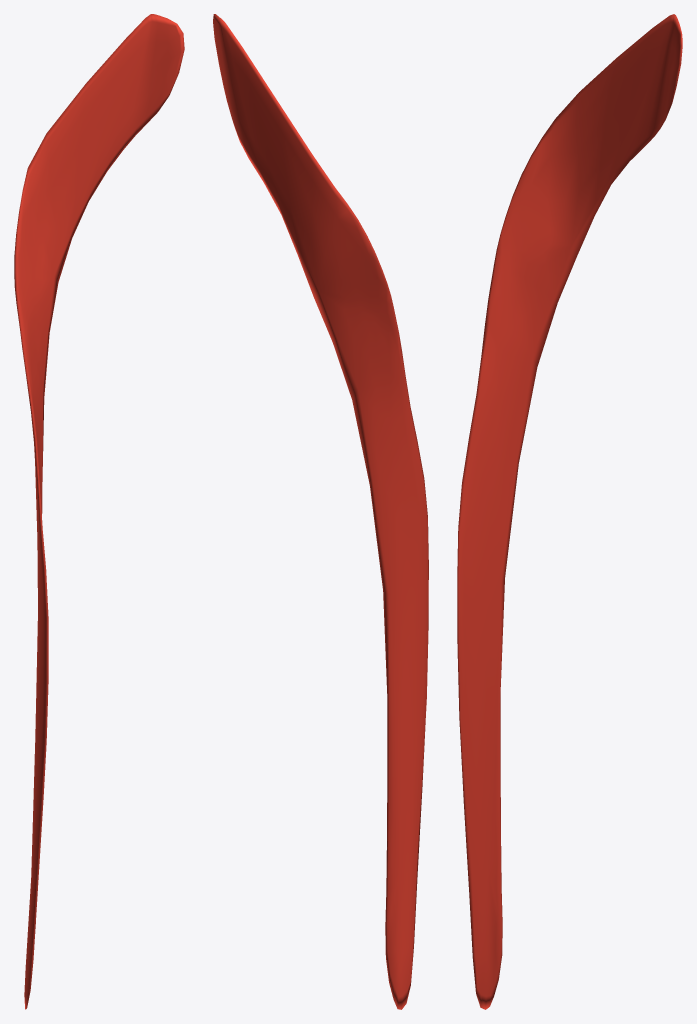
The model's file is Solear_on_solear_crest_on_oblique_line.l_Generated_Mesh_From_X3.glb.
3 renders of one model, left to right at view 1: azimuth 30°, elevation 25°; view 2: azimuth 150°, elevation 25°; view 3: azimuth 330°, elevation 25°, orthographic. The views are drawn at different scales.
Parts seen in each view (by area): view 1: Solear_on_solear_crest_on_oblique_line.l_Generated_Mesh_From; view 2: Solear_on_solear_crest_on_oblique_line.l_Generated_Mesh_From; view 3: Solear_on_solear_crest_on_oblique_line.l_Generated_Mesh_From.
Part boxes in pixels (bbox=[...]): Solear_on_solear_crest_on_oblique_line.l_Generated_Mesh_From: bbox=[14, 14, 184, 1009]; Solear_on_solear_crest_on_oblique_line.l_Generated_Mesh_From: bbox=[213, 14, 428, 1009]; Solear_on_solear_crest_on_oblique_line.l_Generated_Mesh_From: bbox=[457, 14, 682, 1009].
Bounding box in the file's own units: 0.0254 × 0.1314 × 0.0146.
